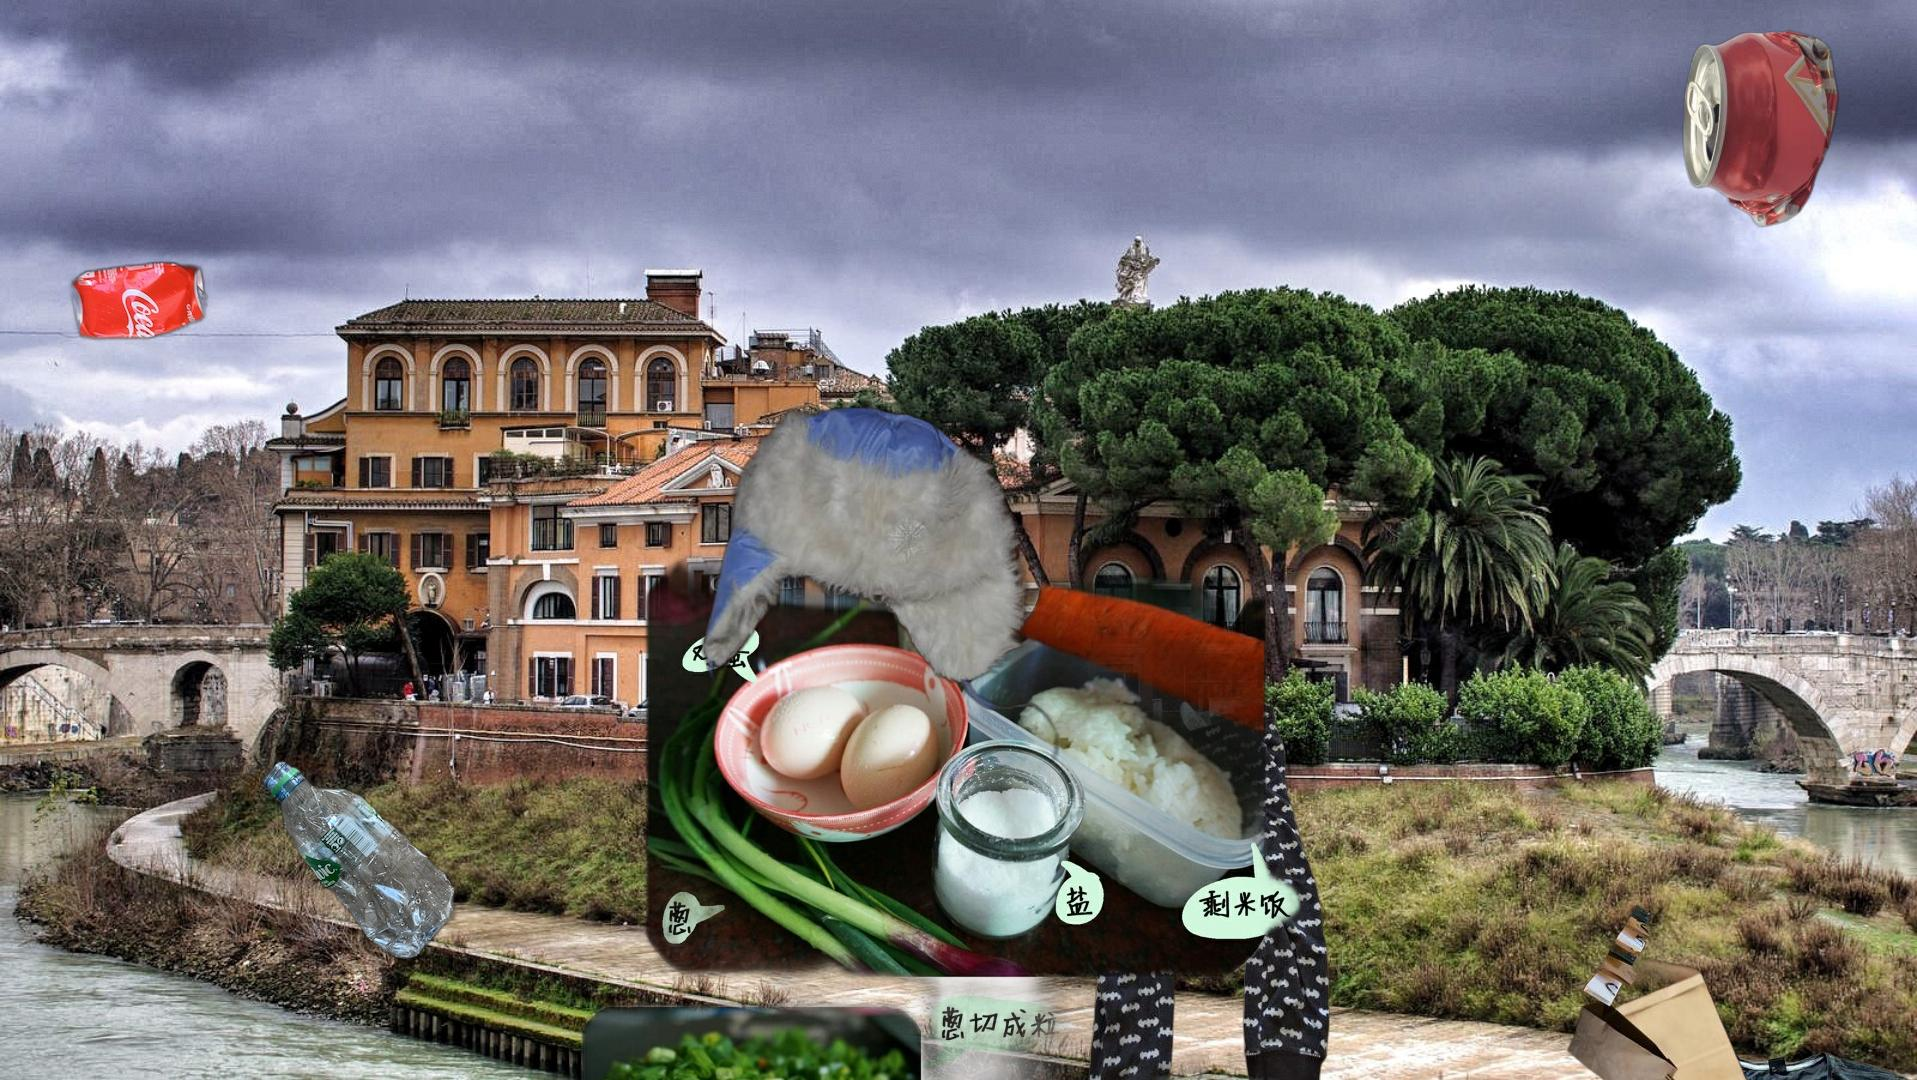biological: (567, 361, 1355, 1080)
clothes: (696, 402, 1063, 763), (1085, 697, 1332, 1080), (1583, 1048, 1917, 1080)
metal-cans: (36, 14, 470, 698), (1677, 28, 1843, 229)
paper-bag: (1565, 904, 1756, 1080)
plastic-bottles: (258, 757, 460, 964)
